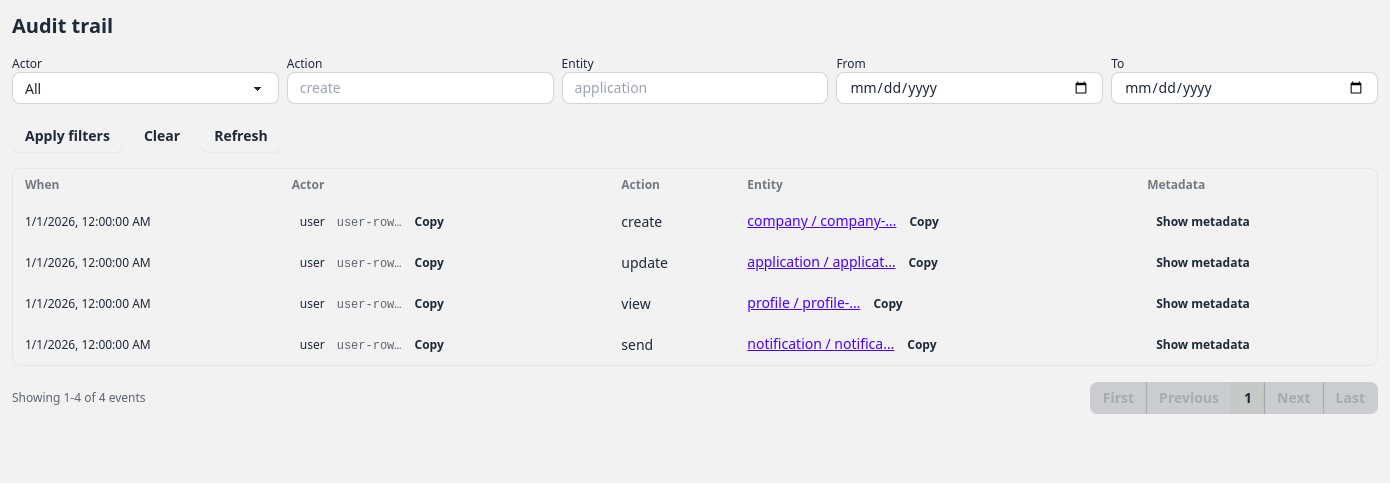
Test: AuditPage › renders entity links for supported types and toggles metadata expansion
Expected: the text "create" is shown, [609,202,735,242]
Click the button "Show metadata" in the row of "create" at (1203, 222), box [1147,210,1259,234]
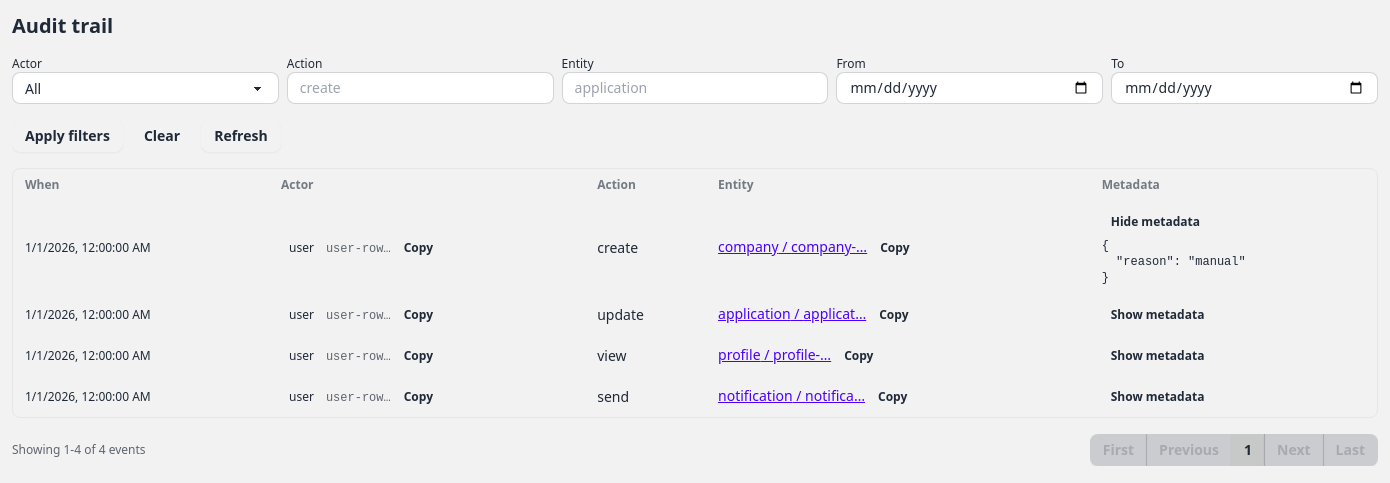
Now the text "{ \"reason\": \"manual\" }" is shown, box [1102,239,1246,285]
Click the button "Hide metadata" at (1155, 222), box [1102,210,1209,234]
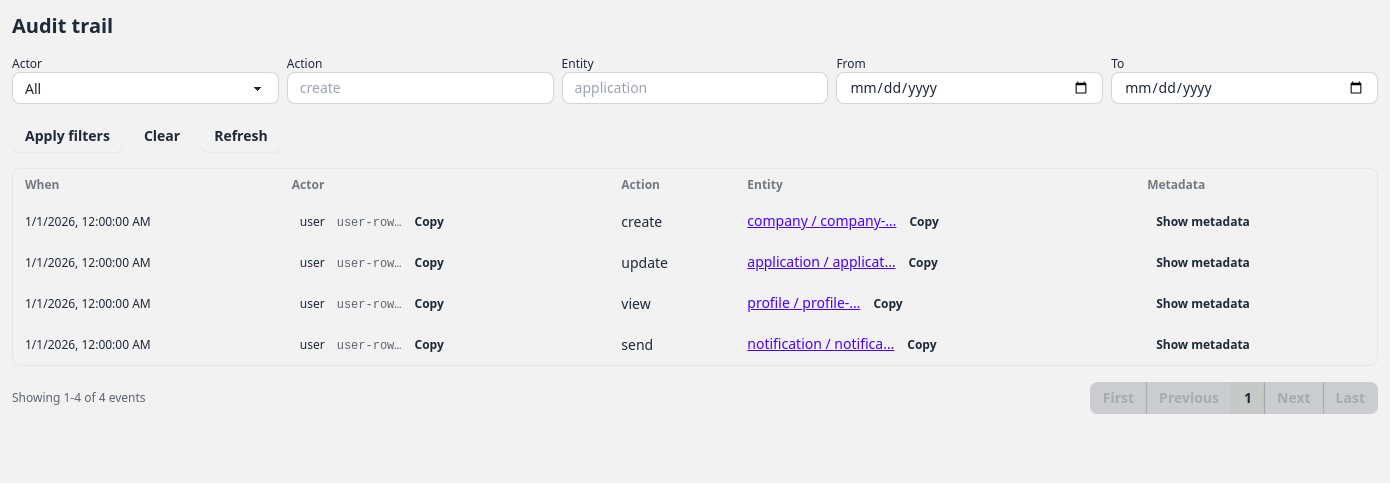
Now the text "\"reason\": \"manual\"" is gone
